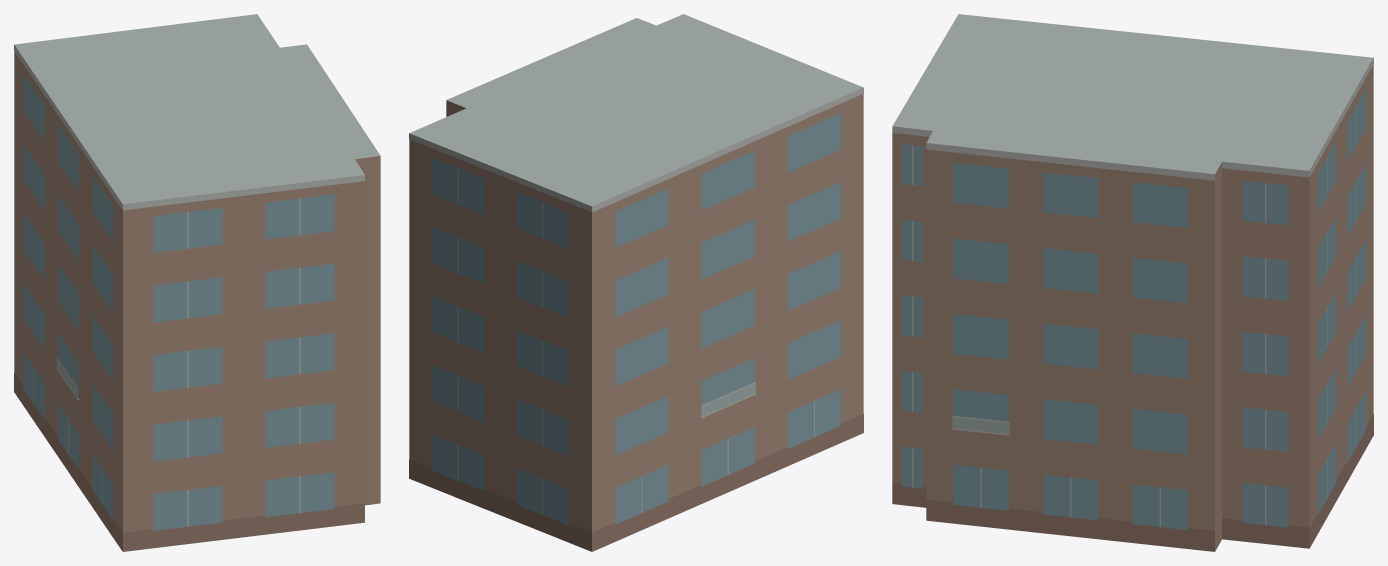
The model's file is survey-upis-32767127.glb.
3 renders of one model, left to right at view 1: azimuth 30°, elevation 25°; view 2: azimuth 150°, elevation 25°; view 3: azimuth 270°, elevation 25°, orthographic. The views are drawn at different scales.
Parts seen in each view (by area): view 1: survey-upis-32767127.tmp; view 2: survey-upis-32767127.tmp; view 3: survey-upis-32767127.tmp.
Part boxes in pixels (left/top/right/bottom): survey-upis-32767127.tmp: left=14, top=14, right=380, bottom=551; survey-upis-32767127.tmp: left=409, top=14, right=863, bottom=551; survey-upis-32767127.tmp: left=892, top=14, right=1373, bottom=551.
Size of the model in its own units: 12.84 by 14.1 by 16.3.
